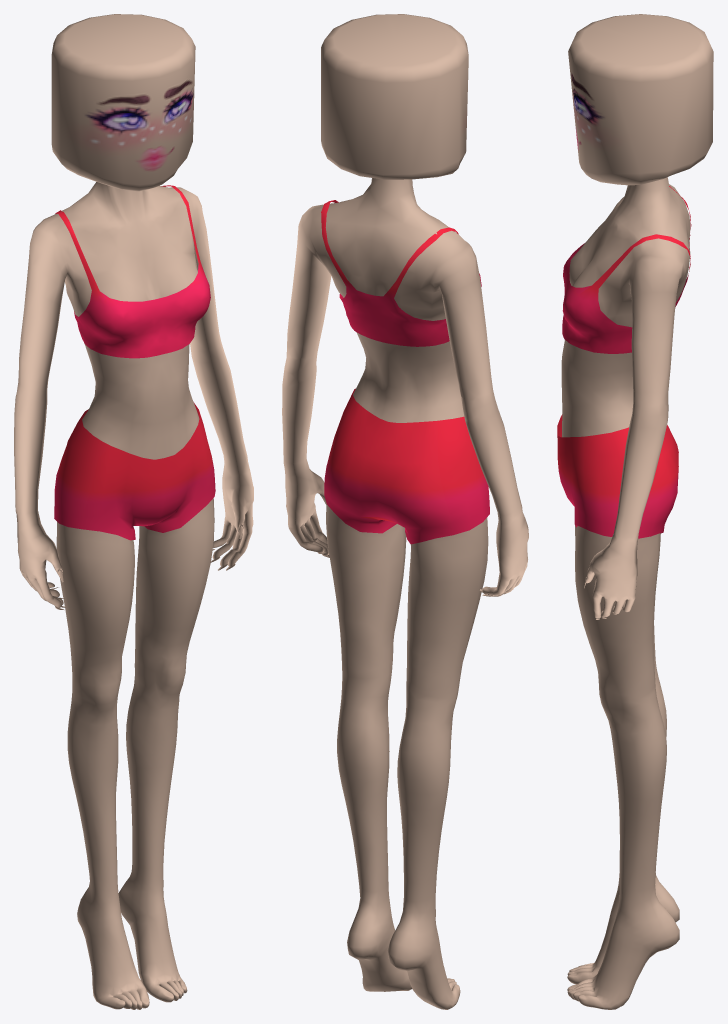
3 views of the same model, side by side, from view 1: azimuth 30°, elevation 25°; view 2: azimuth 150°, elevation 25°; view 3: azimuth 270°, elevation 25° (orthographic). The views are drawn at different scales.
Parts seen in each view (by area): view 1: Woman_1, Cloth_0; view 2: Woman_1, Cloth_0; view 3: Woman_1, Cloth_0.
Part boxes in pixels (<box>): Woman_1: <box>14,14,253,1009</box>; Cloth_0: <box>54,185,215,540</box>; Woman_1: <box>282,14,528,1009</box>; Cloth_0: <box>321,200,489,544</box>; Woman_1: <box>561,14,713,1009</box>; Cloth_0: <box>557,186,691,538</box>.
Bounding box in the file's own units: 1.5 × 5.95 × 0.8852.
Materials: 2 (2 with a texture image).
